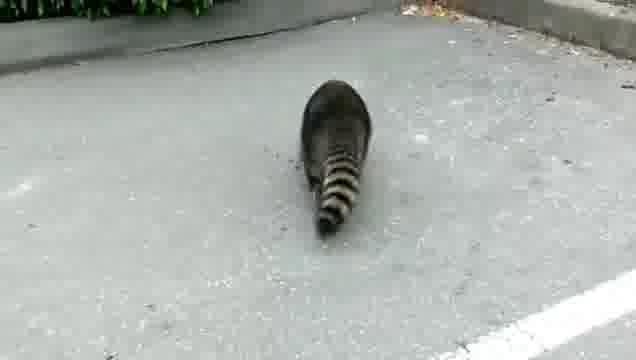raccoon: (295, 76, 378, 240)
